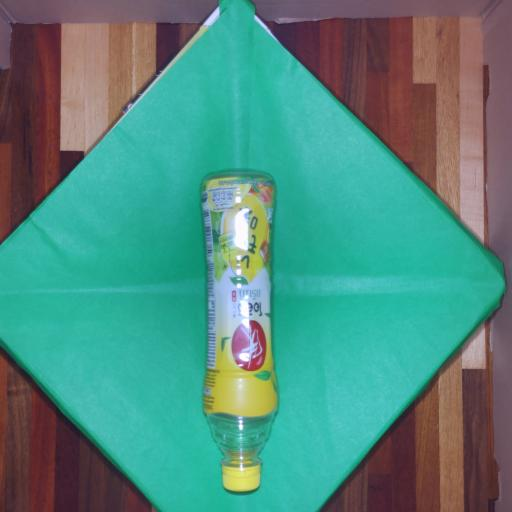bottle: (180, 160, 299, 500)
